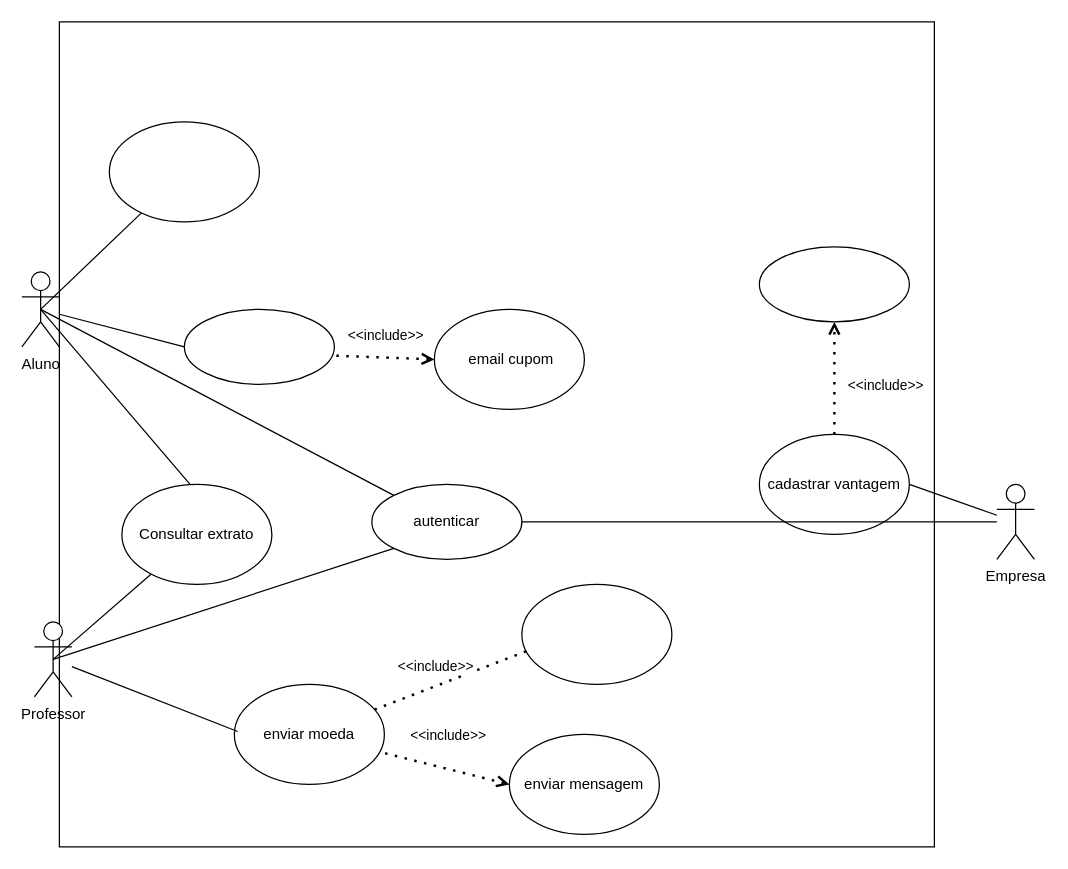
Image size: 1068x869. Some labels were removed from this diagram. The box of each missing label's shape, as (x1, y1, x2, y2) in pixels:
cadastrar: (108, 121, 259, 222)
descrição e foto: (758, 246, 909, 322)
notificação email: (521, 583, 672, 684)
trocar moeda: (183, 308, 334, 384)
